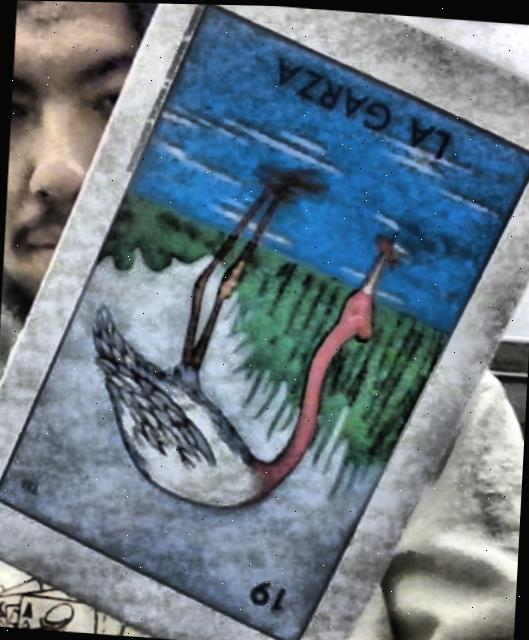La Garza: (0, 5, 529, 640)
